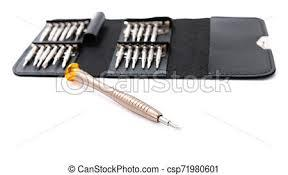screwdriver: (64, 62, 178, 128), (63, 62, 177, 127)
